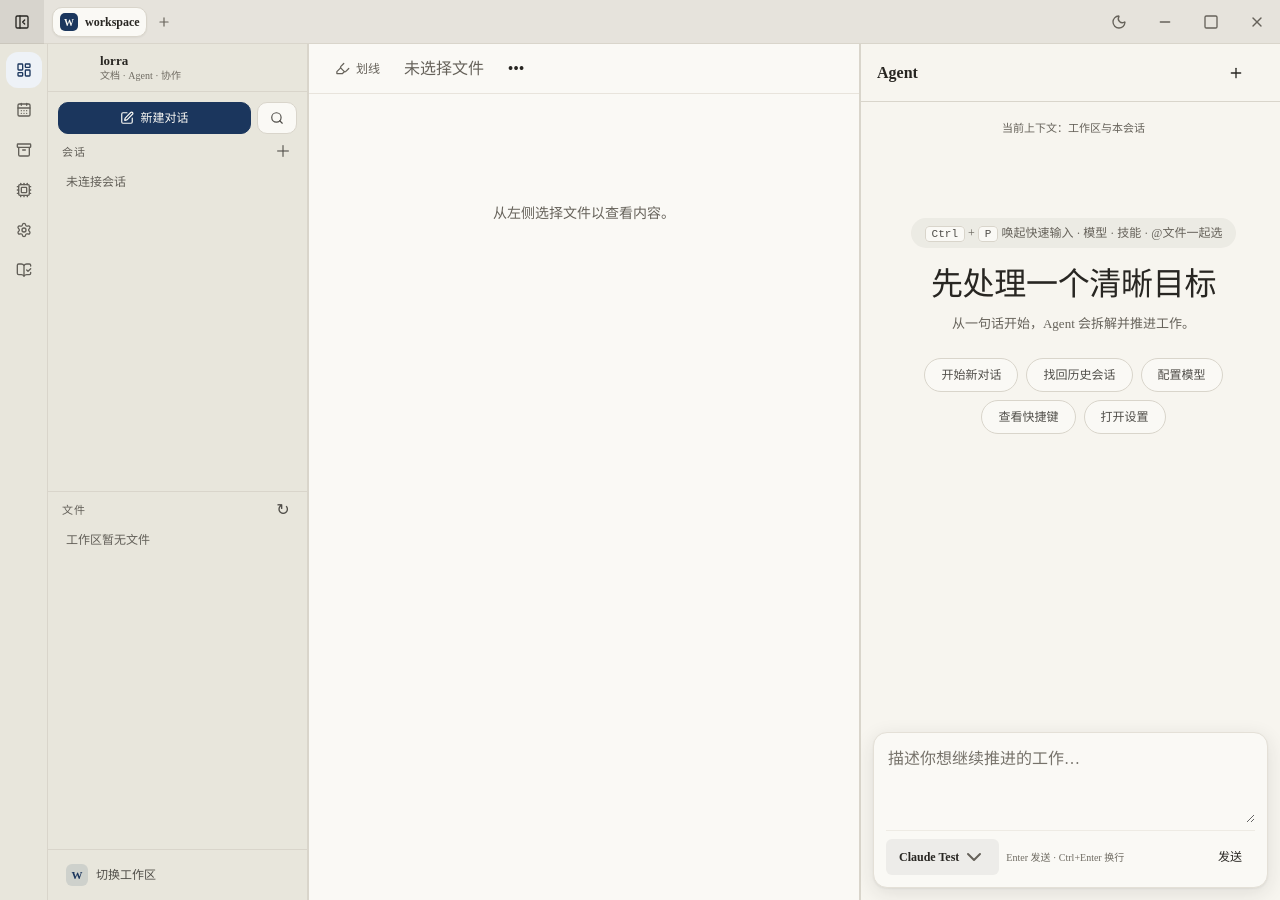
Test: Requirement: 记忆页导航(app-shell spec,6.9) › Scenario 点击第 3 位记忆入口 → 记忆整页,工作区 tab 条不渲染
The image size is (1280, 900).
Expected: the element named "Agent 对话" is shown, x1=860 y1=44 x2=1279 y2=899
Click the button named "记忆". click: {"x": 24, "y": 150}
box: x1=6 y1=132 x2=42 y2=168
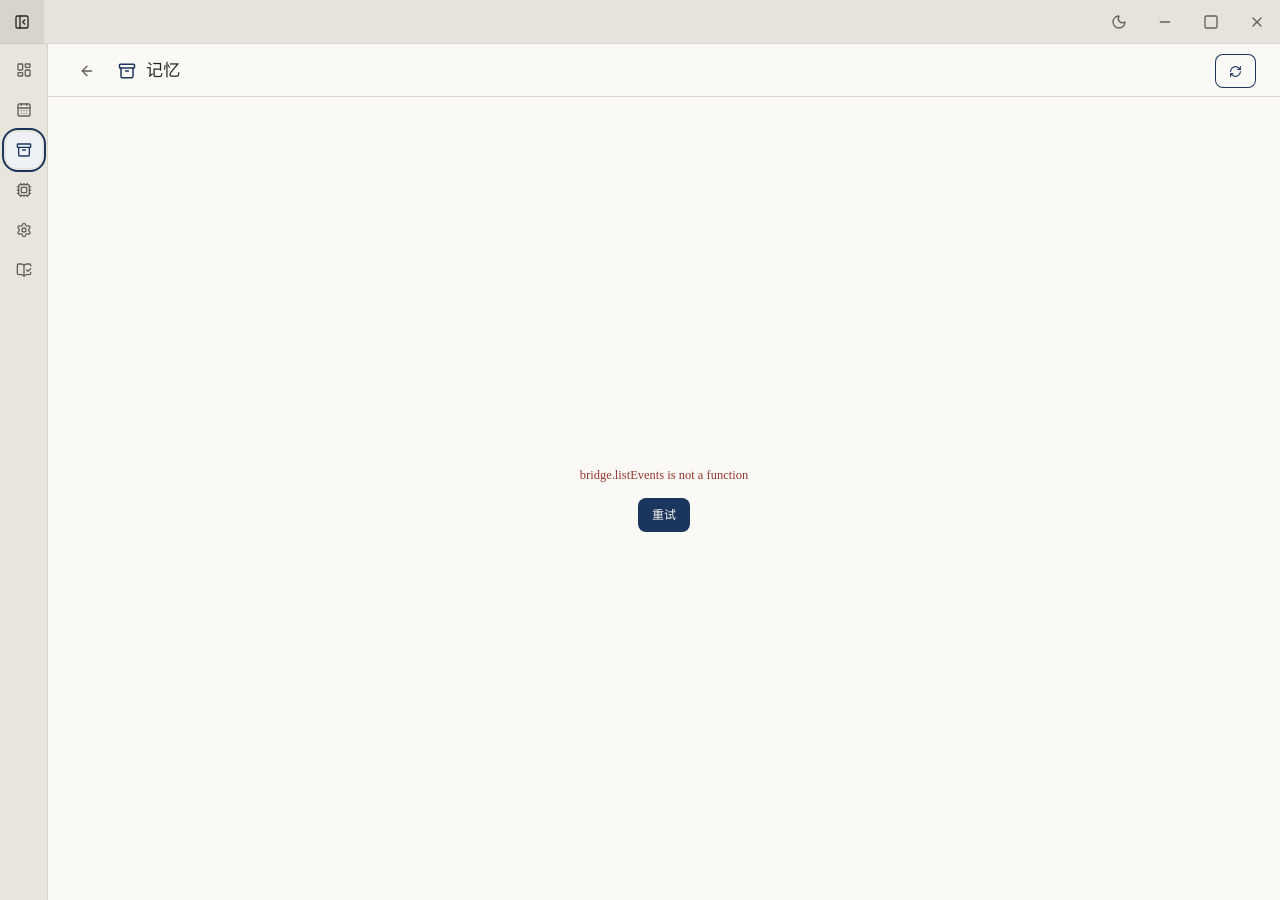
Expected: the element with test id "memory-page" is shown
Expected: the text "工作区" is gone
